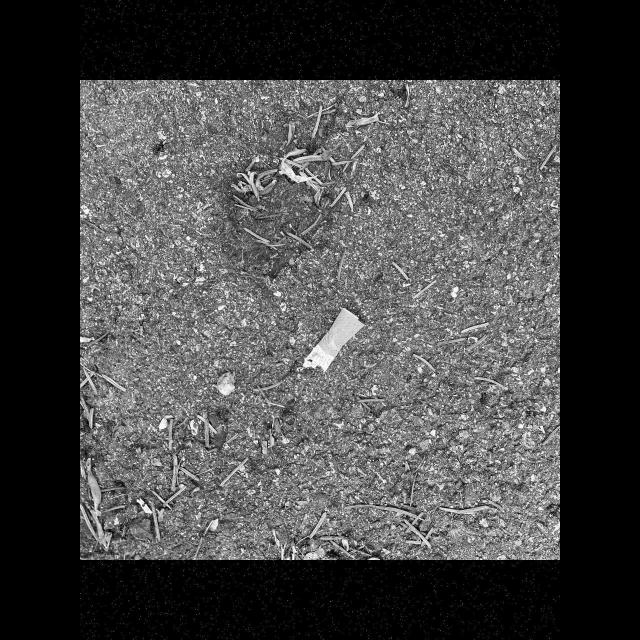cigarette: (302, 308, 365, 373)
